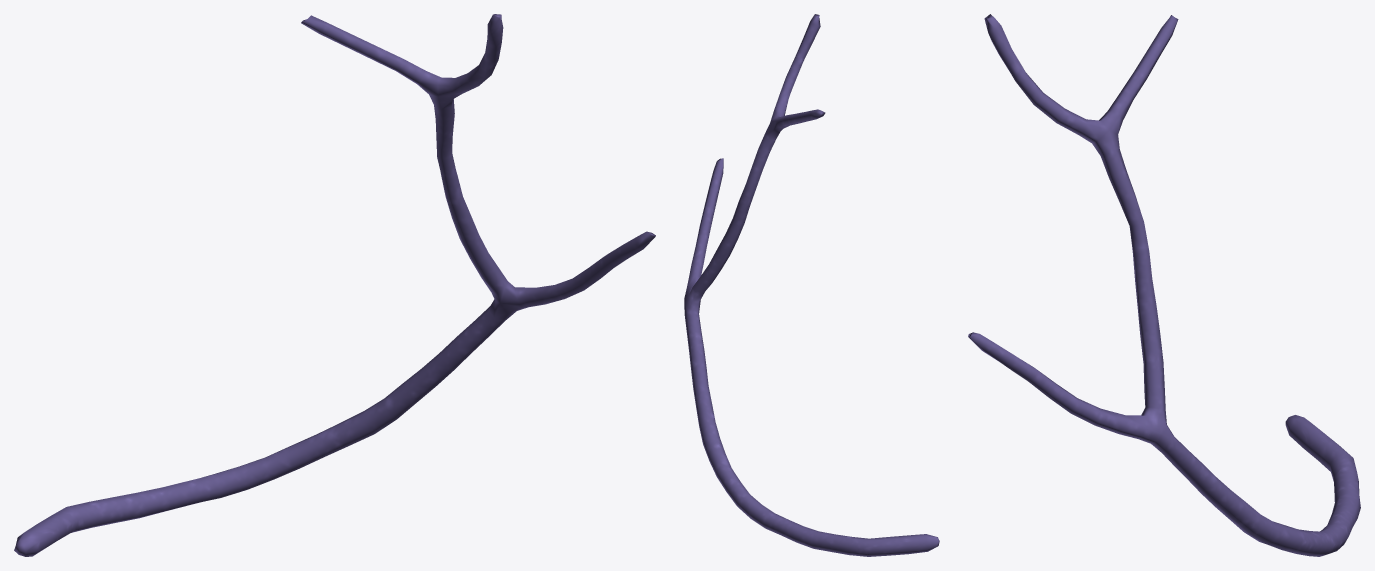
Rendered from CN VIII - Vestibulocochlear Nerve.glb.
The picture shows the model from 3 angles, left to right: view 1: azimuth 30°, elevation 25°; view 2: azimuth 150°, elevation 25°; view 3: azimuth 270°, elevation 25°; orthographic projection. The views are drawn at different scales.
Parts seen in each view (by area): view 1: CN VIII - Vestibulocochlear Nerve.glb; view 2: CN VIII - Vestibulocochlear Nerve.glb; view 3: CN VIII - Vestibulocochlear Nerve.glb.
Boxes of the visible parts, x1=… form: CN VIII - Vestibulocochlear Nerve.glb: x1=14, y1=14, x2=655, y2=556; CN VIII - Vestibulocochlear Nerve.glb: x1=684, y1=14, x2=939, y2=556; CN VIII - Vestibulocochlear Nerve.glb: x1=968, y1=14, x2=1360, y2=556.
Bounding box in the file's own units: 0.0406 × 0.0481 × 0.0291.
1 material, 1 textured.
